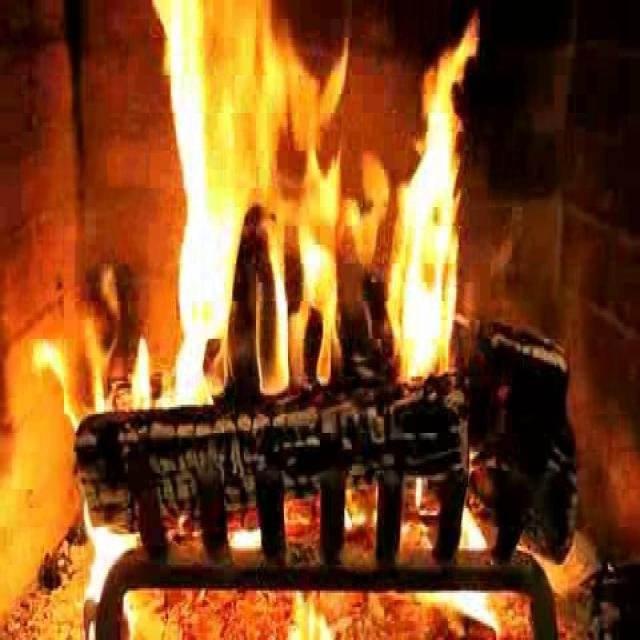fire: (140, 2, 473, 418)
